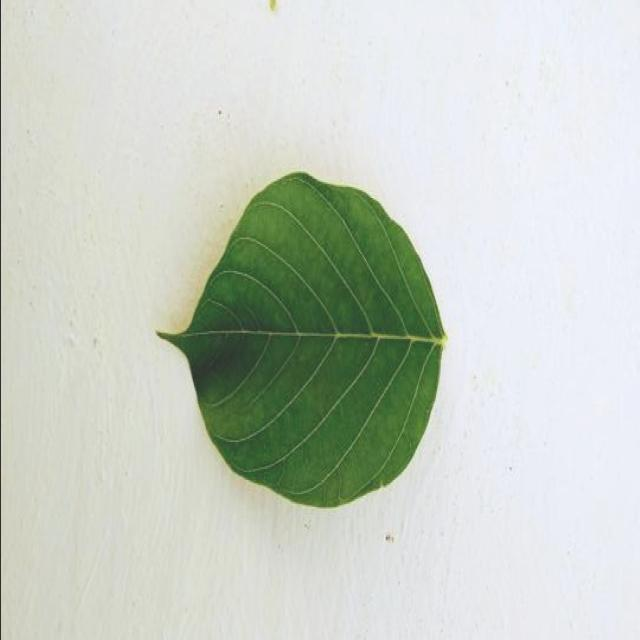leaf: (155, 169, 447, 508)
